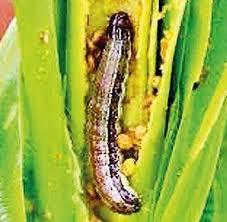fallarmy_worm: (86, 8, 149, 216)
